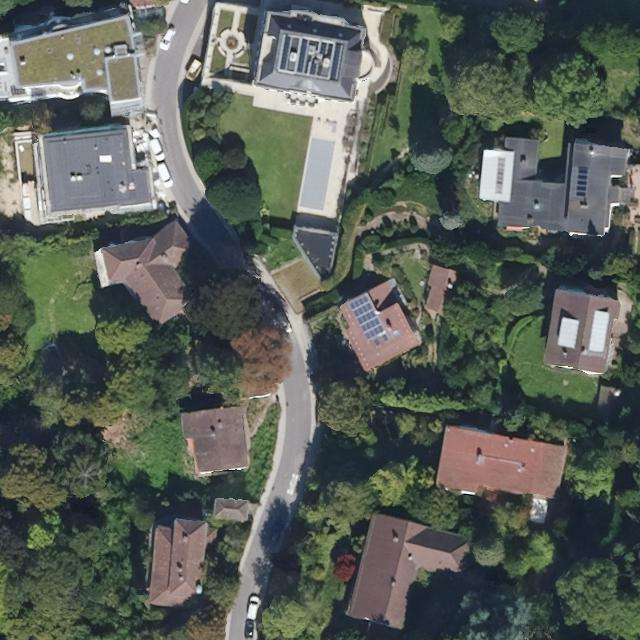PV: (346, 293, 387, 341), (575, 166, 588, 203)
